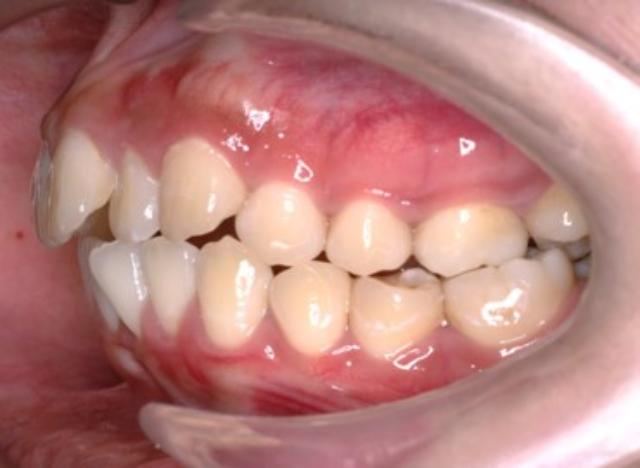canine class II full class: (156, 128, 352, 356)
molar class II full class: (408, 199, 586, 353)
